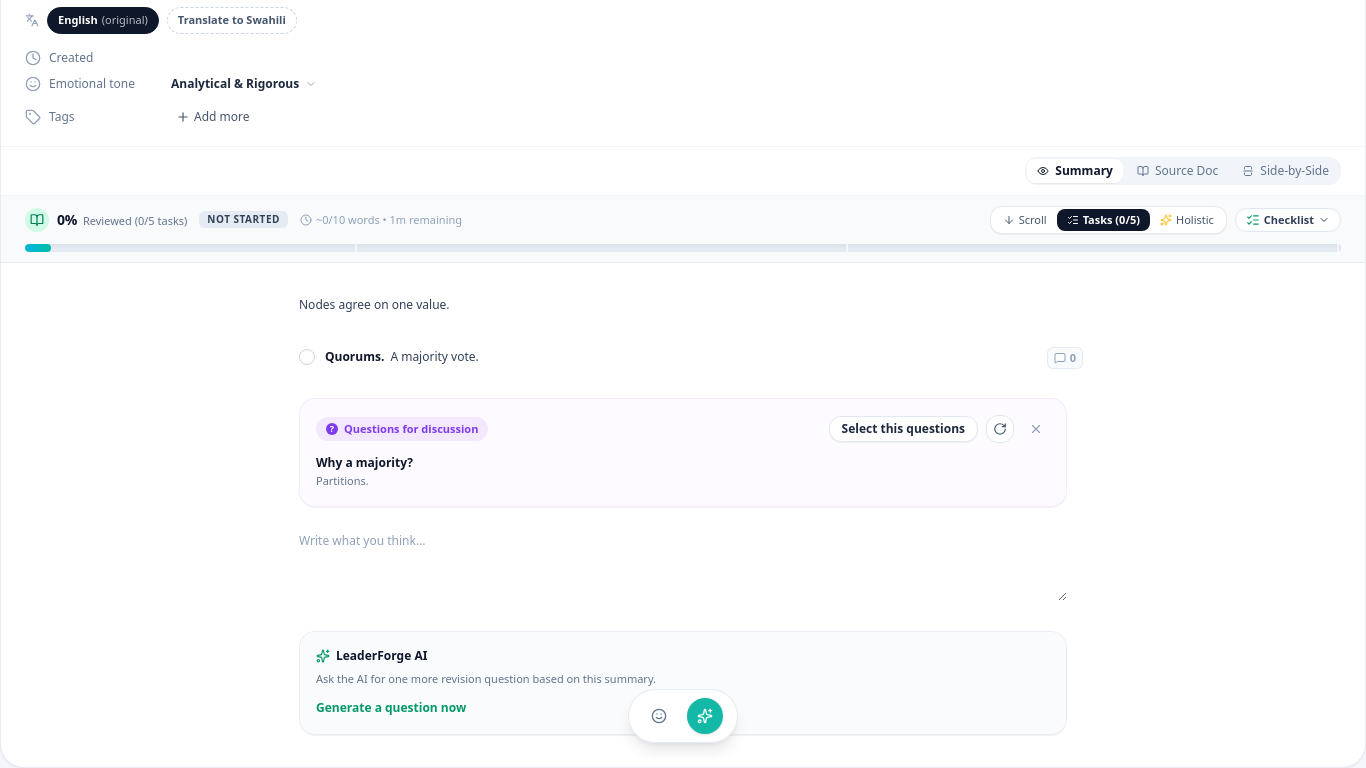
Test case: MainEditorView: rating and question generation › asks the server for a real question from the summary and adds it after the existing ones
(page scrolled)
Click the button "Generate a question now" at (391, 708), box x1=316 y1=700 x2=466 y2=716
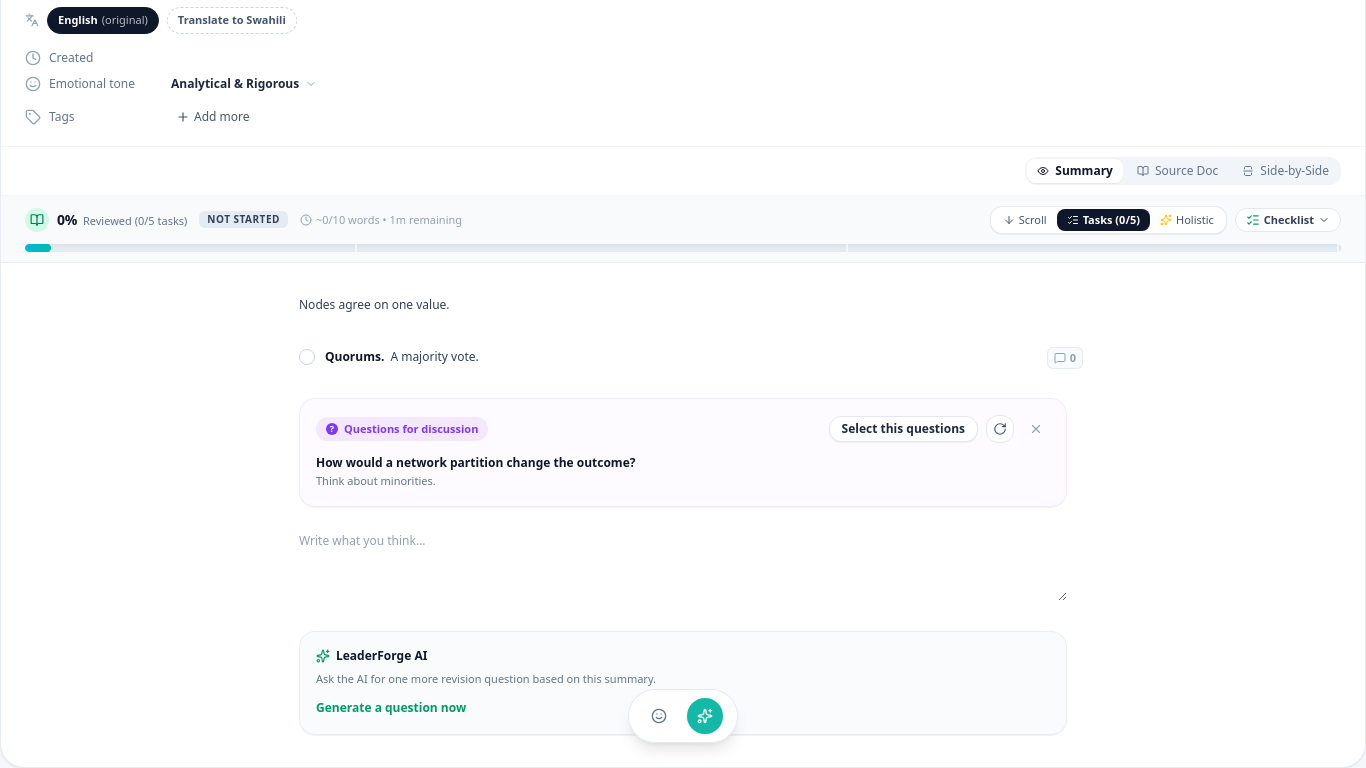
expect the heading "How would a network partition change the outcome?" is shown: met, box x1=316 y1=454 x2=636 y2=471
